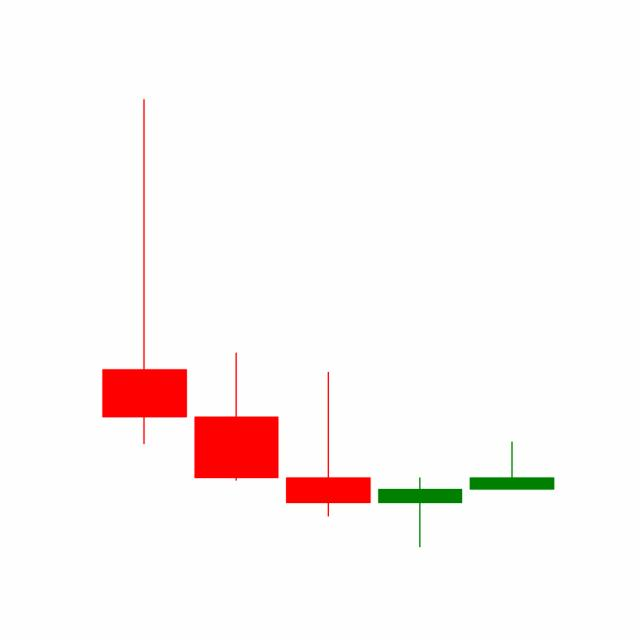Gravestone Doji: (464, 440, 558, 489)
